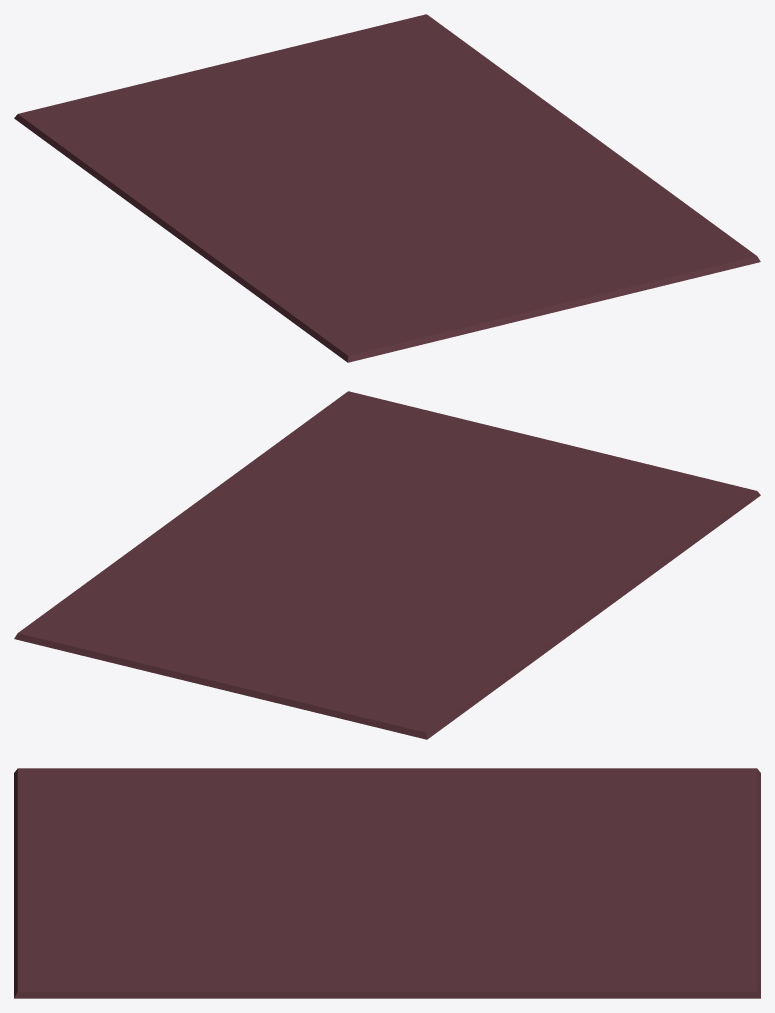
Rendered from rug-checker.fbx.
The picture shows the model from 3 angles, top to bottom: view 1: azimuth 30°, elevation 25°; view 2: azimuth 150°, elevation 25°; view 3: azimuth 270°, elevation 25°; orthographic projection. The views are drawn at different scales.
Parts seen in each view (by area): view 1: rug-checker; view 2: rug-checker; view 3: rug-checker.
Boxes of the visible parts, box(x1,y1,x2,y2) form: rug-checker: box(14, 14, 760, 362); rug-checker: box(14, 391, 760, 739); rug-checker: box(14, 768, 760, 998).
Size of the model in its own units: 2.5 by 0.03 by 3.5.
